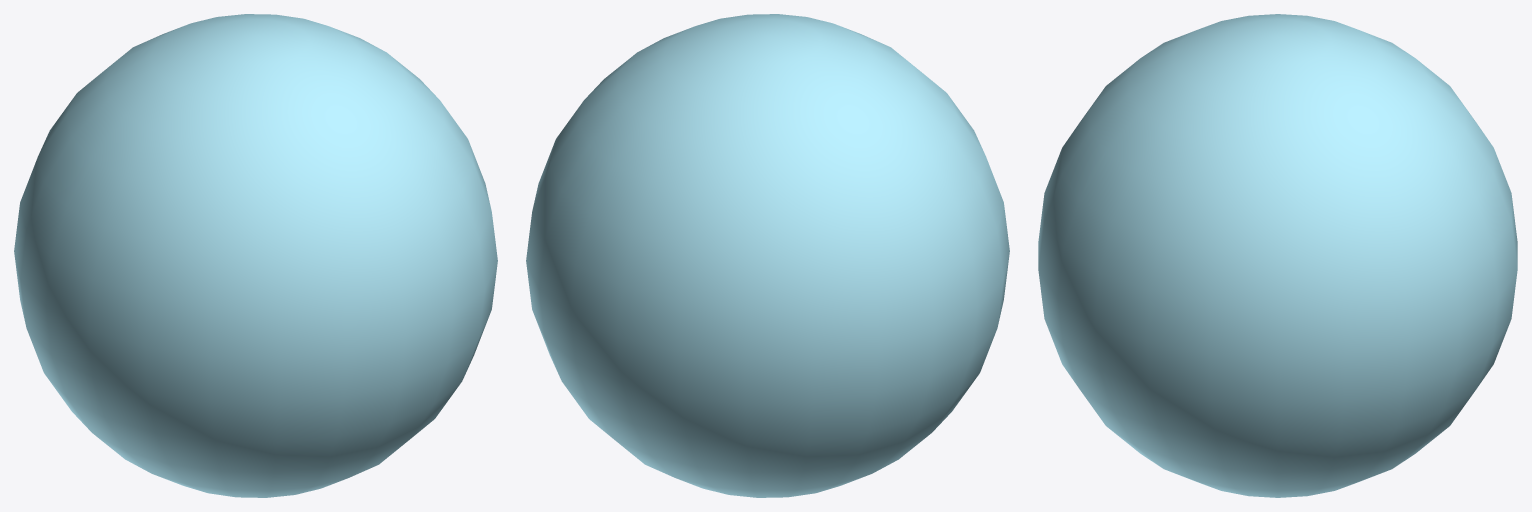
File: StruggleOrbBall.glb
3 renders of one model, left to right at view 1: azimuth 30°, elevation 25°; view 2: azimuth 150°, elevation 25°; view 3: azimuth 270°, elevation 25°, orthographic.
Visible parts, largest first — view 1: Orb; view 2: Orb; view 3: Orb.
Part boxes in pixels (x1,y1,x2,y2): Orb: (14, 14, 497, 497); Orb: (526, 14, 1009, 497); Orb: (1038, 14, 1517, 497).
Bounding box in the file's own units: 1.6 × 1.6 × 1.58.
